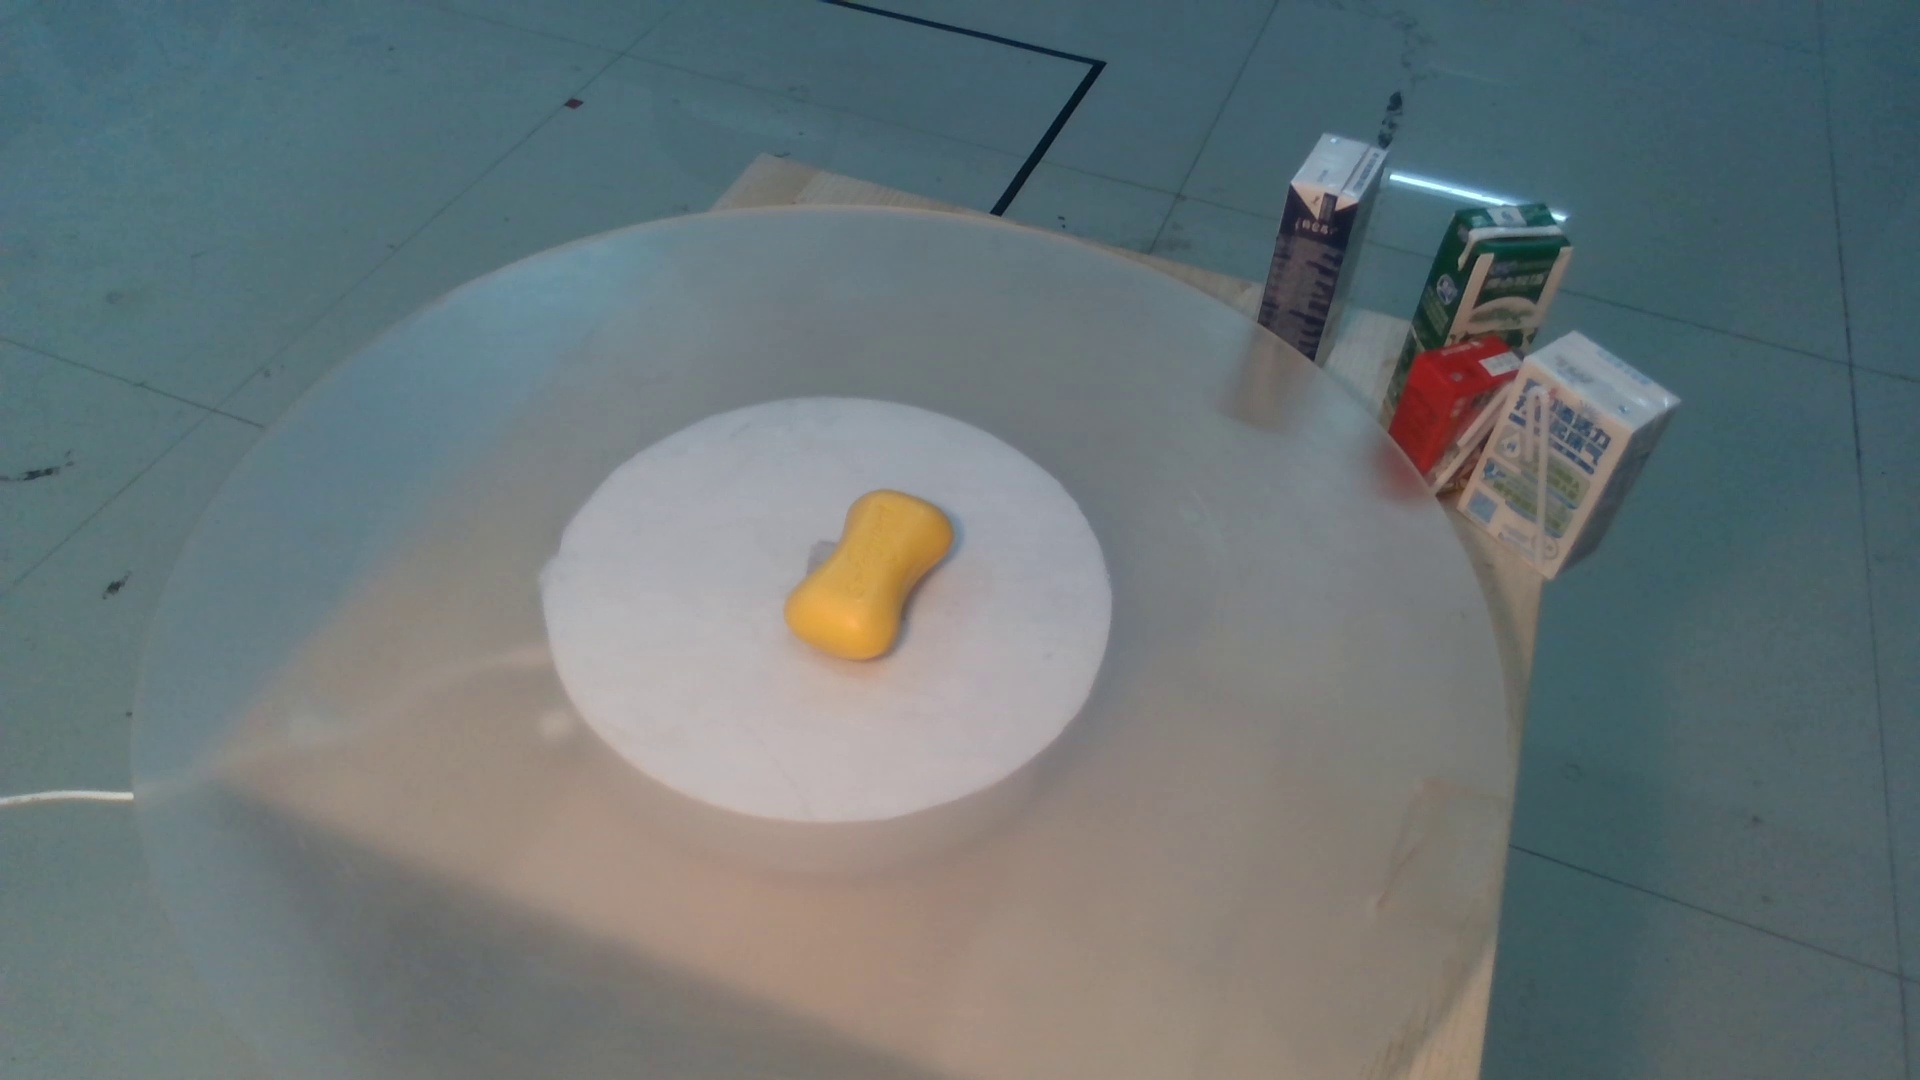CA003_1: (752, 484, 980, 673)
